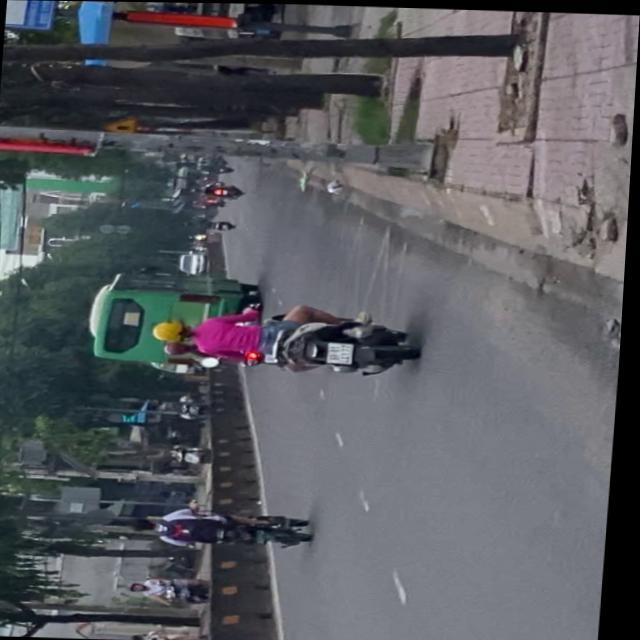helmet: (153, 319, 196, 343)
licenseplate: (151, 299, 423, 380), (132, 504, 321, 552)
motorcyclist: (135, 518, 162, 533)
nohelmet: (328, 342, 357, 363)
